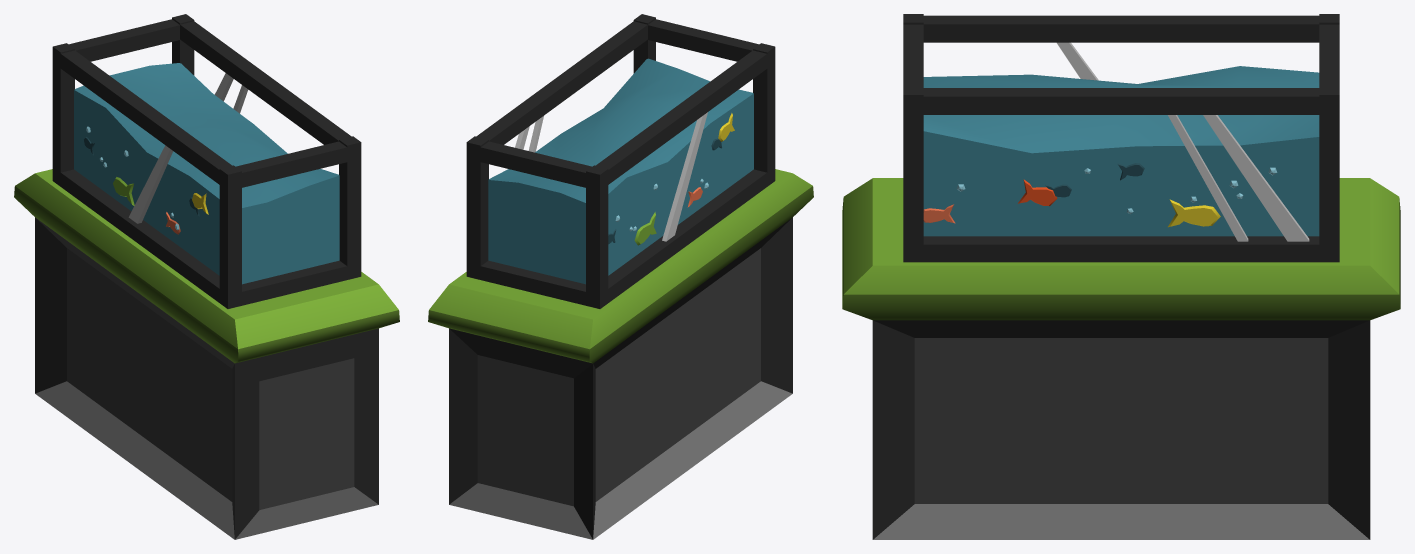
The model's file is obs_lg_aquarium.fbx.
The picture shows the model from 3 angles, left to right: view 1: azimuth 30°, elevation 25°; view 2: azimuth 150°, elevation 25°; view 3: azimuth 270°, elevation 25°; orthographic projection. The views are drawn at different scales.
Visible parts, largest first — view 1: pCube57; view 2: pCube57; view 3: pCube57.
Boxes of the visible parts, x1,y1,x2,y2 form: pCube57: (14, 14, 399, 539); pCube57: (428, 14, 813, 539); pCube57: (842, 14, 1400, 539).
Size of the model in its own units: 1.12 by 2.35 by 2.7.
